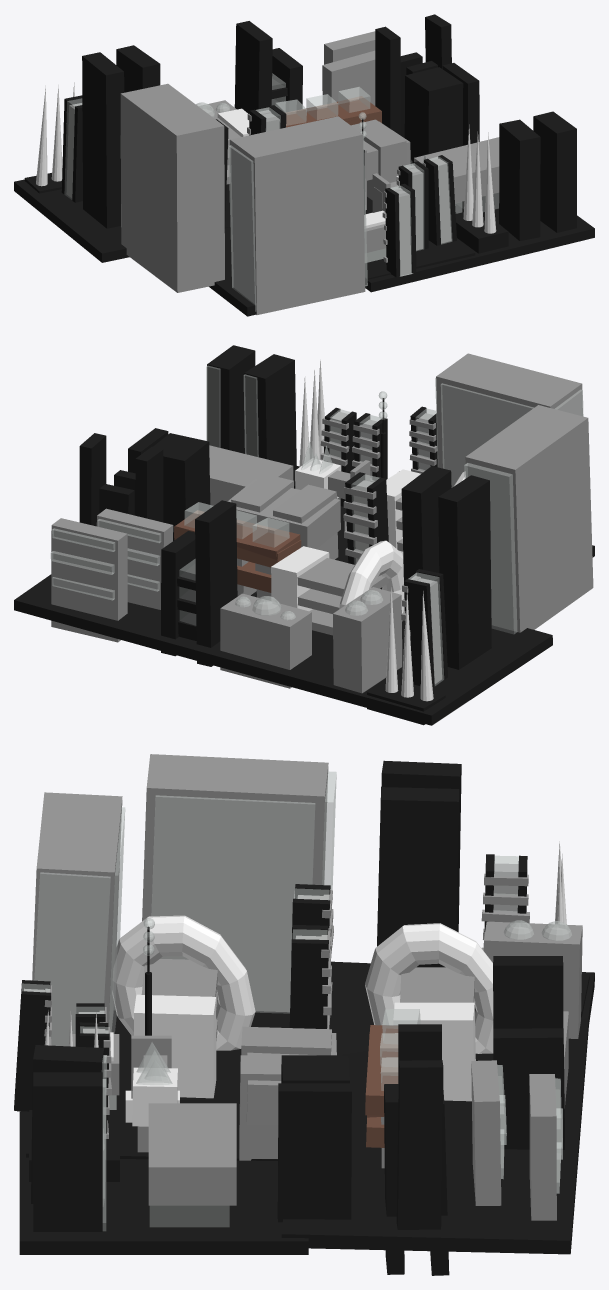
The model's file is example.glb.
3 views of the same model, one above another, from view 1: azimuth 30°, elevation 25°; view 2: azimuth 150°, elevation 25°; view 3: azimuth 270°, elevation 25° (orthographic). The views are drawn at different scales.
Parts seen in each view (by area): view 1: group1535571683, group744479526, group1941512920, group2136330921, group1051586502, group1439214399, group948698066, group1072368455, group1471756435, group2005200651, group435153605, group1249380906 (+38 smaller); view 2: group744479526, group1535571683, group1941512920, group2071765879, group1276636658, group814518623, group1471756435, group2005200651, group2136330921, group2097892548, group720382572, group1709619051 (+47 smaller); view 3: group744479526, group1277819691, group720382572, group1535571683, group948698066, group249055517, group1439214399, group1537805902, group1683109482, group477413292, group143801017, group494146043 (+36 smaller).
Part boxes in pixels (x1=…): group1535571683: x1=230, y1=116, x2=365, y2=314; group744479526: x1=120, y1=83, x2=224, y2=292; group1941512920: x1=82, y1=52, x2=124, y2=228; group2136330921: x1=499, y1=119, x2=540, y2=240; group1051586502: x1=404, y1=67, x2=463, y2=165; group1439214399: x1=533, y1=111, x2=576, y2=232; group948698066: x1=366, y1=193, x2=594, y2=292; group1072368455: x1=228, y1=145, x2=255, y2=311; group1471756435: x1=14, y1=179, x2=230, y2=262; group2005200651: x1=234, y1=21, x2=272, y2=113; group435153605: x1=209, y1=197, x2=475, y2=316; group1249380906: x1=375, y1=26, x2=400, y2=135; group744479526: x1=465, y1=405, x2=593, y2=632; group1535571683: x1=436, y1=353, x2=582, y2=487; group1941512920: x1=438, y1=475, x2=491, y2=669; group2071765879: x1=51, y1=518, x2=127, y2=642; group1276636658: x1=333, y1=587, x2=402, y2=693; group814518623: x1=220, y1=593, x2=311, y2=688; group1471756435: x1=363, y1=620, x2=552, y2=725; group2005200651: x1=195, y1=500, x2=237, y2=666; group2136330921: x1=244, y1=354, x2=296, y2=470; group2097892548: x1=130, y1=591, x2=372, y2=709; group720382572: x1=14, y1=574, x2=263, y2=677; group1709619051: x1=440, y1=383, x2=533, y2=487; group744479526: x1=142, y1=754, x2=328, y2=1012; group1277819691: x1=151, y1=795, x2=314, y2=1013; group720382572: x1=281, y1=1085, x2=583, y2=1254; group1535571683: x1=32, y1=792, x2=122, y2=1046; group948698066: x1=19, y1=1081, x2=308, y2=1254; group249055517: x1=377, y1=787, x2=459, y2=967; group1439214399: x1=33, y1=1072, x2=102, y2=1231; group1537805902: x1=277, y1=1083, x2=351, y2=1222; group1683109482: x1=34, y1=872, x2=110, y2=1045; group477413292: x1=148, y1=1103, x2=236, y2=1205; group143801017: x1=112, y1=915, x2=255, y2=1050; group494146043: x1=396, y1=1060, x2=443, y2=1229.
Bounding box in the file's own units: 5.75 × 2.66 × 5.01.
